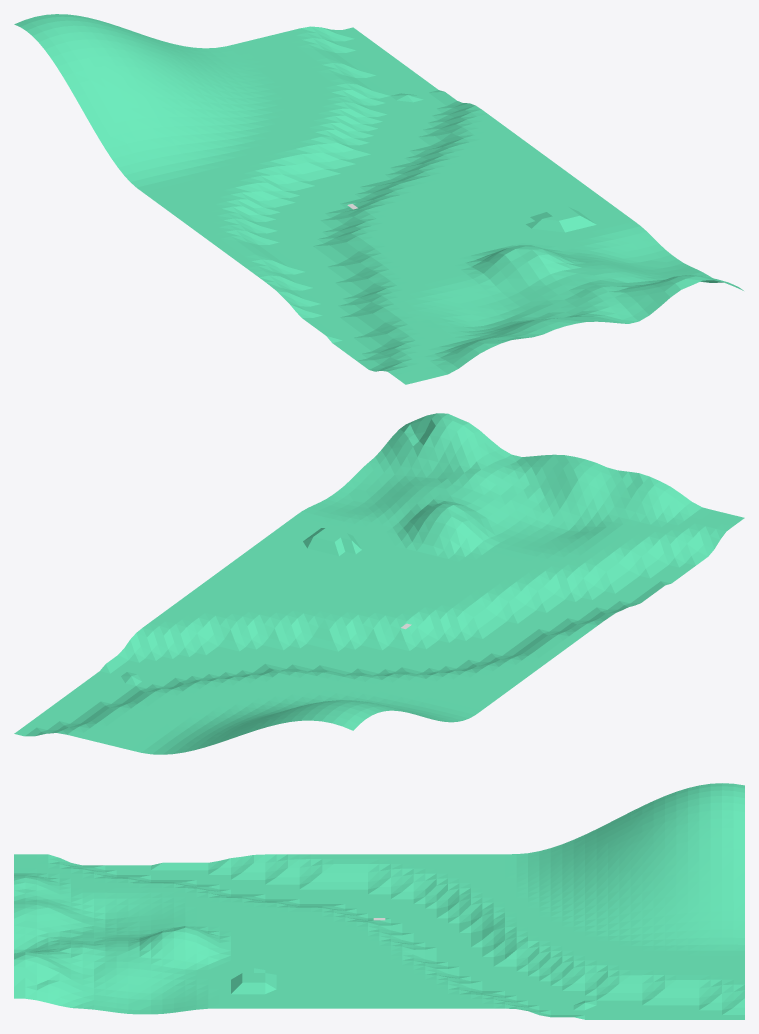
The model's file is nulMap1.gltf.
3 renders of one model, top to bottom at view 1: azimuth 30°, elevation 25°; view 2: azimuth 150°, elevation 25°; view 3: azimuth 270°, elevation 25°, orthographic. The views are drawn at different scales.
Parts seen in each view (by area): view 1: Grid; view 2: Grid; view 3: Grid.
Boxes of the visible parts, <box> form: Grid: <box>14,14,743,384</box>; Grid: <box>14,413,744,754</box>; Grid: <box>14,783,744,1019</box>.
Size of the model in its own units: 512 by 131 by 1024.
